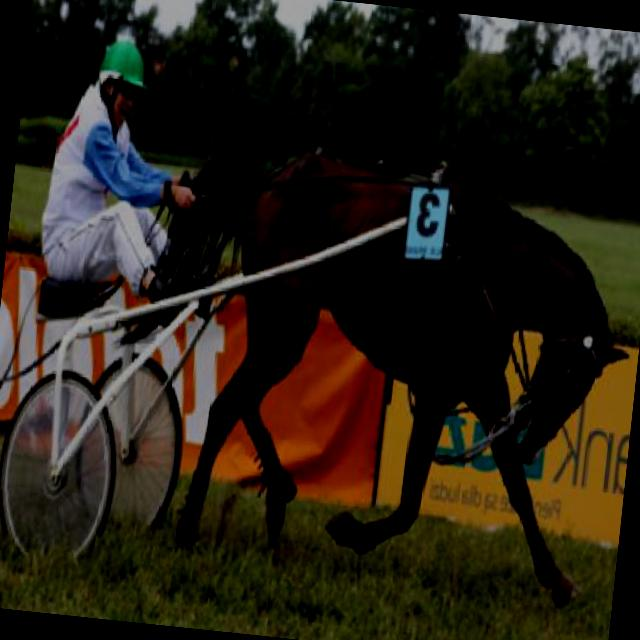Person: (31, 36, 194, 342)
